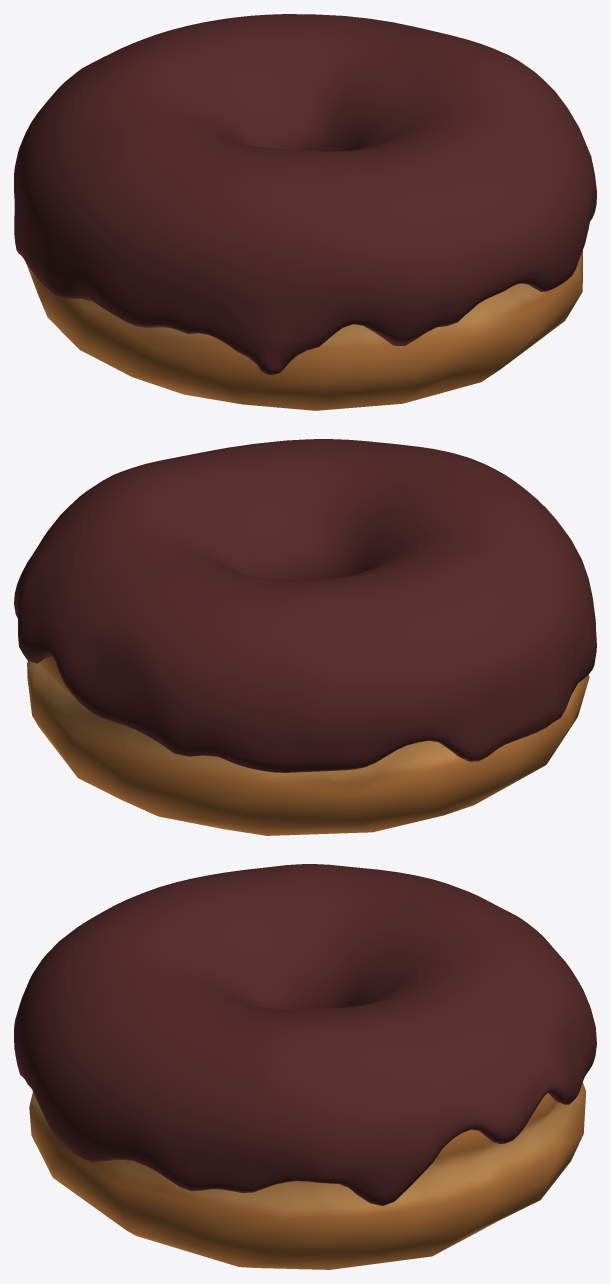
The model's file is donut_less.glb.
3 renders of one model, top to bottom at view 1: azimuth 30°, elevation 25°; view 2: azimuth 150°, elevation 25°; view 3: azimuth 270°, elevation 25°, orthographic.
Visible parts, largest first — view 1: Icing, Dough; view 2: Icing, Dough; view 3: Icing, Dough.
Boxes of the visible parts, left/top/right/bottom form: Icing: left=14, top=14, right=596, bottom=374; Dough: left=26, top=250, right=582, bottom=410; Icing: left=14, top=439, right=596, bottom=772; Dough: left=27, top=656, right=589, bottom=835; Icing: left=14, top=864, right=596, bottom=1206; Dough: left=29, top=1082, right=585, bottom=1269.
Size of the model in its own units: 0.9996 by 0.4564 by 1.
Materials: 2 (1 with a texture image).
